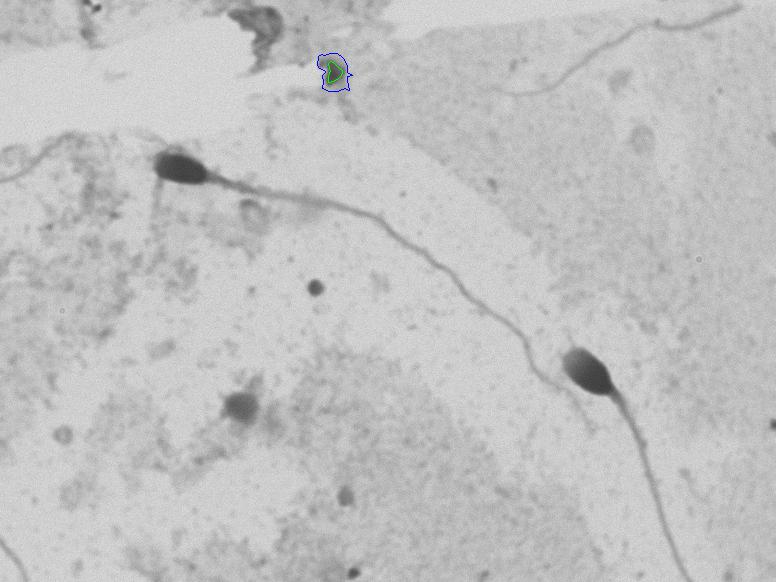Abnormal: (101, 138, 536, 350)
Normal: (557, 320, 700, 573)
